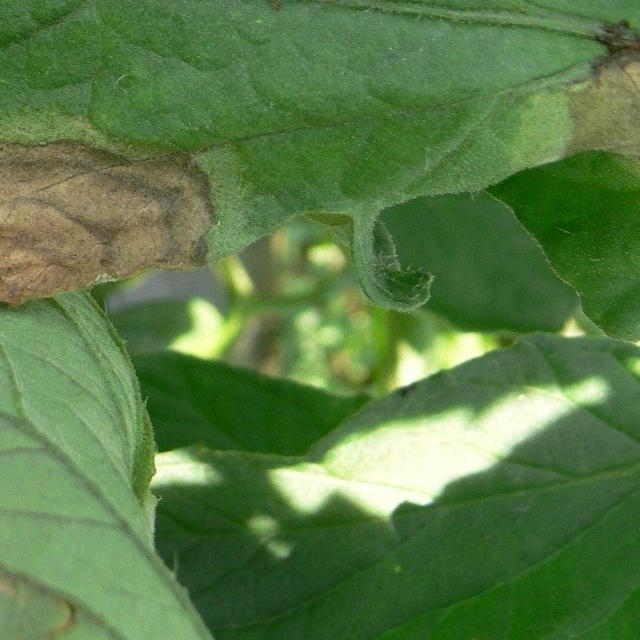Tomato leaf late blight: (0, 0, 640, 348)
